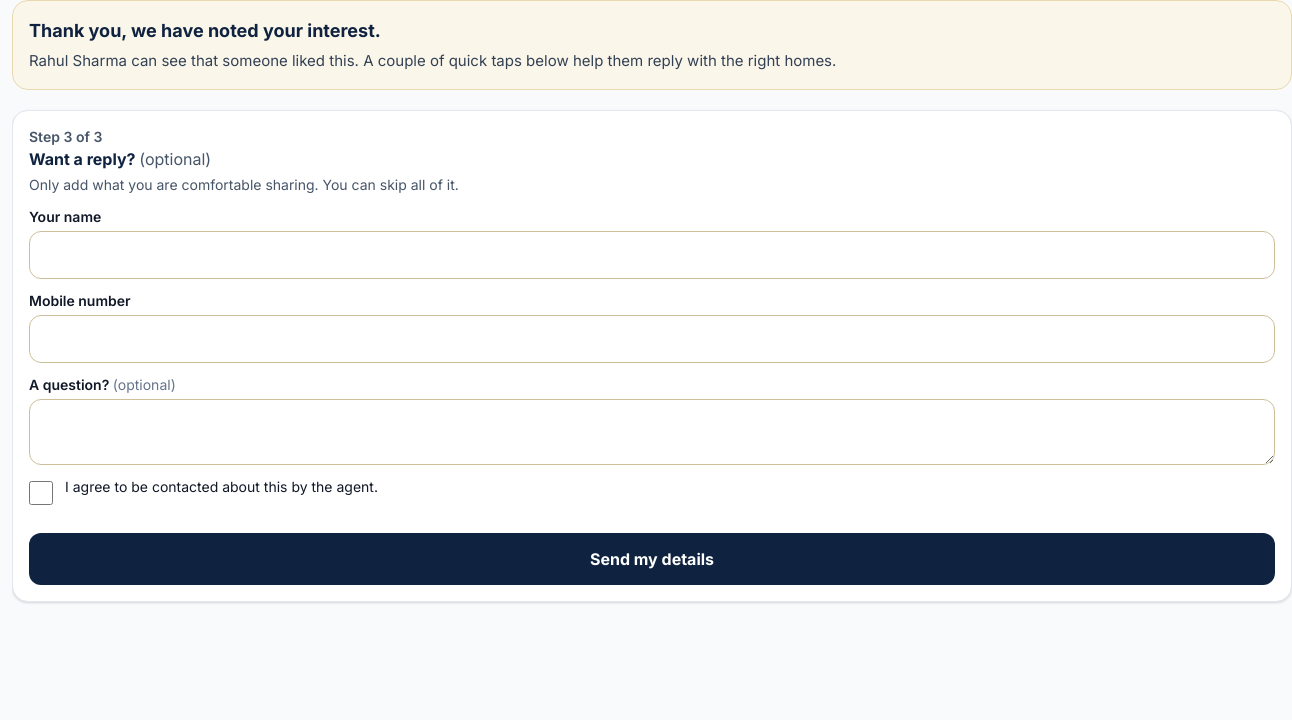
InterestActions › does not send contact details without the consent tick
The image size is (1292, 720).
In the field labelled "Mobile number": (652, 339) left=29, top=315, right=1275, bottom=363, type "9876543210"
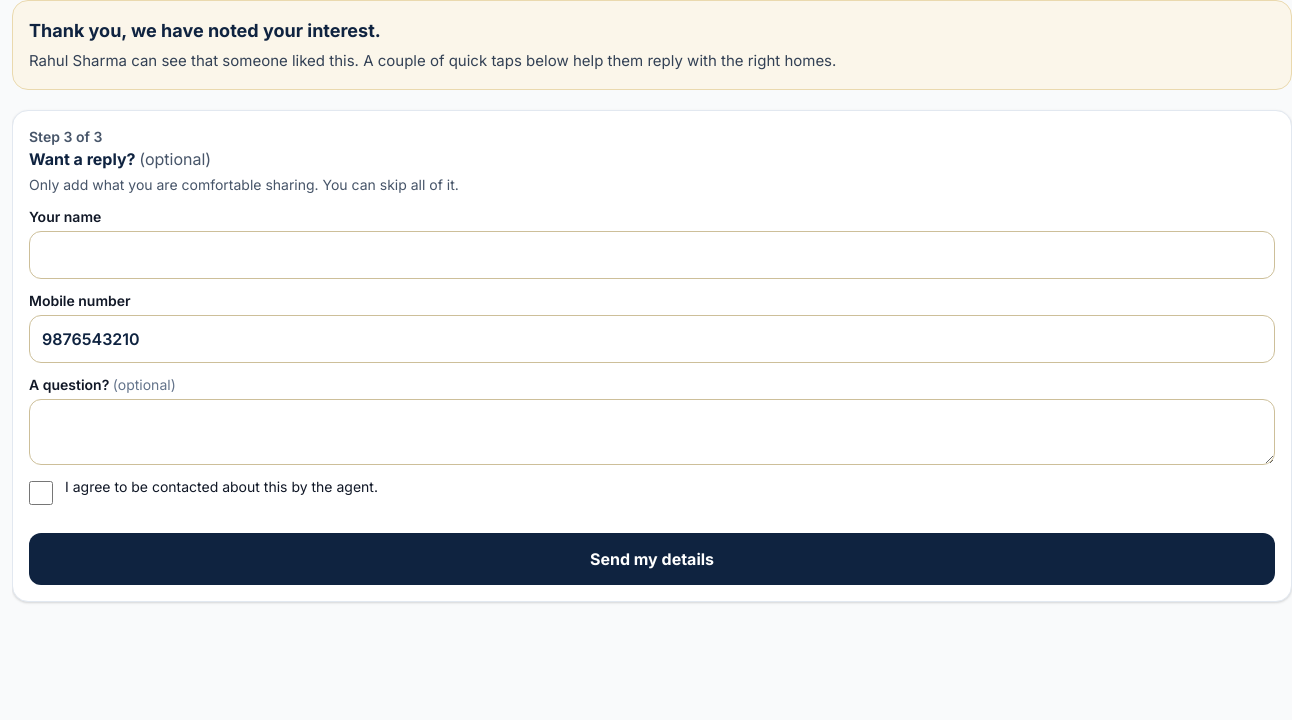
Click the button "Send my details": (652, 559) left=29, top=533, right=1275, bottom=585
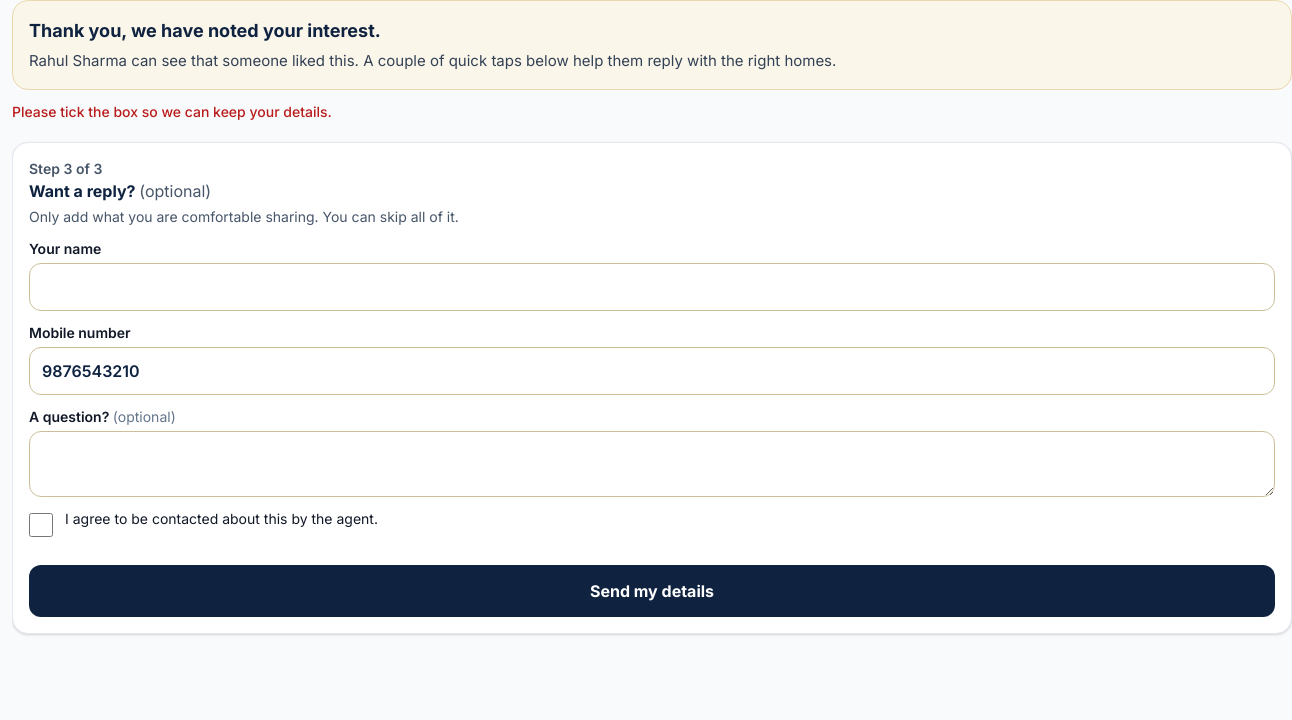
Result: the message "Please tick the box so we can keep your details." is shown at left=12, top=103, right=332, bottom=120
